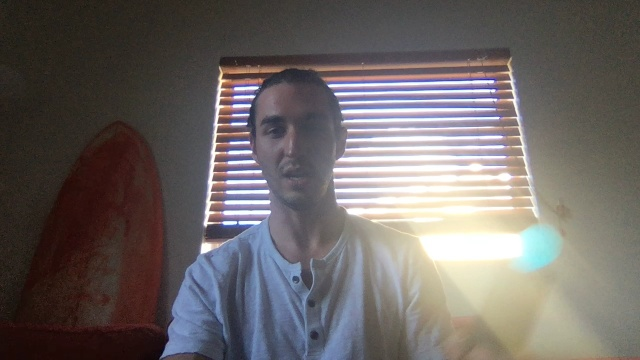wand: (516, 226, 563, 272)
